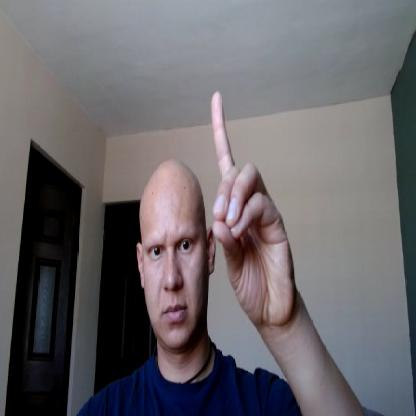D: (210, 92, 294, 320)
